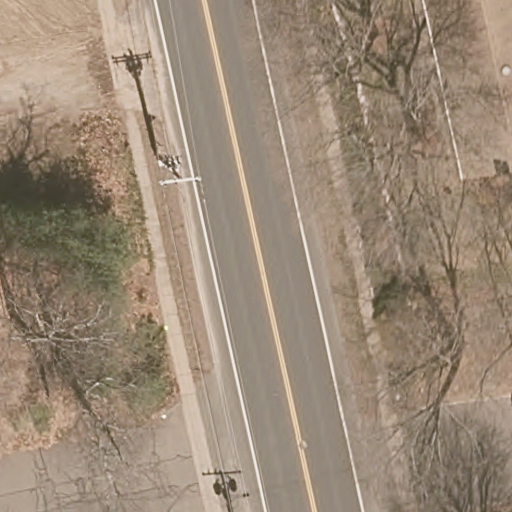DT: (157, 153, 202, 187)
